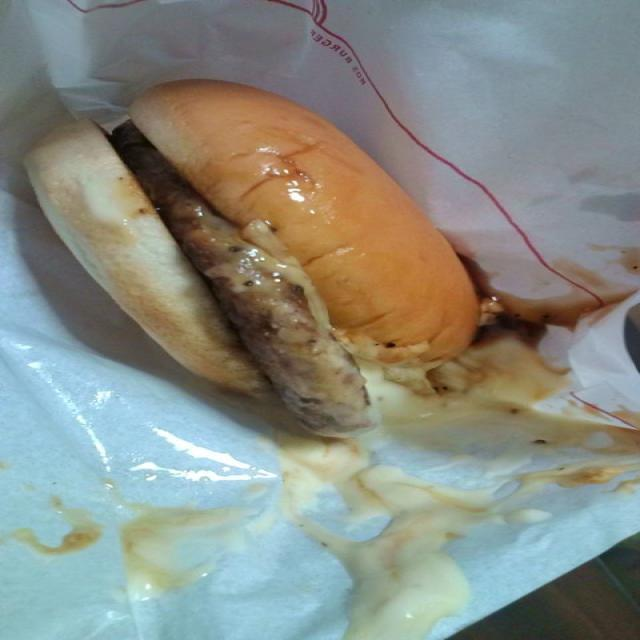Hamburger: (21, 92, 471, 418)
